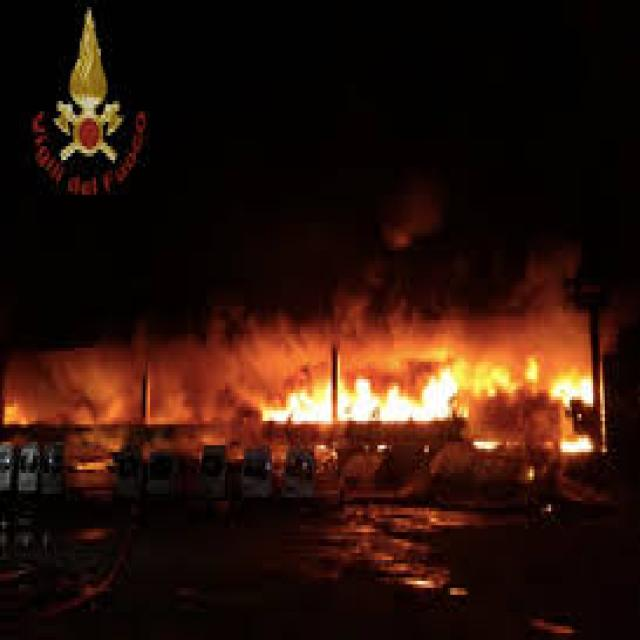Fire: (222, 334, 592, 471)
Smoke: (27, 97, 595, 347)
